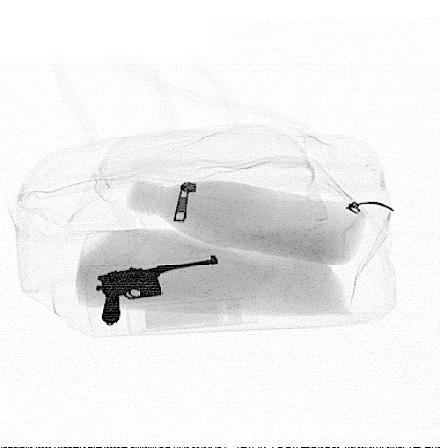Gun: (96, 255, 219, 325)
